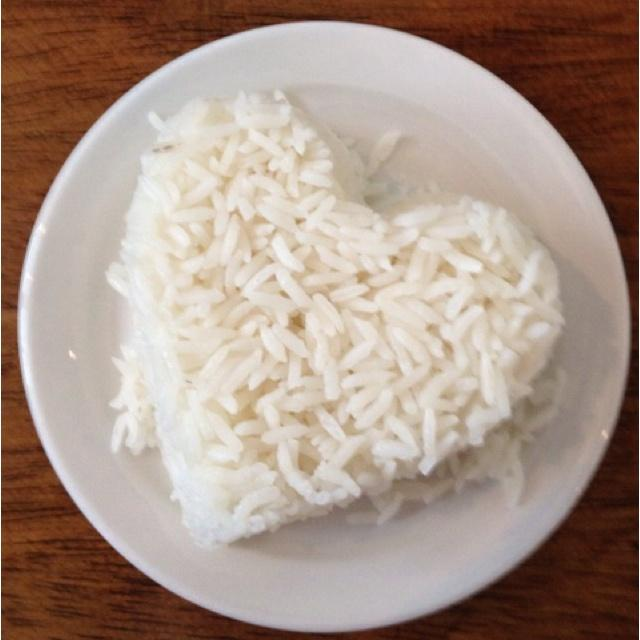rice: (109, 92, 561, 546)
